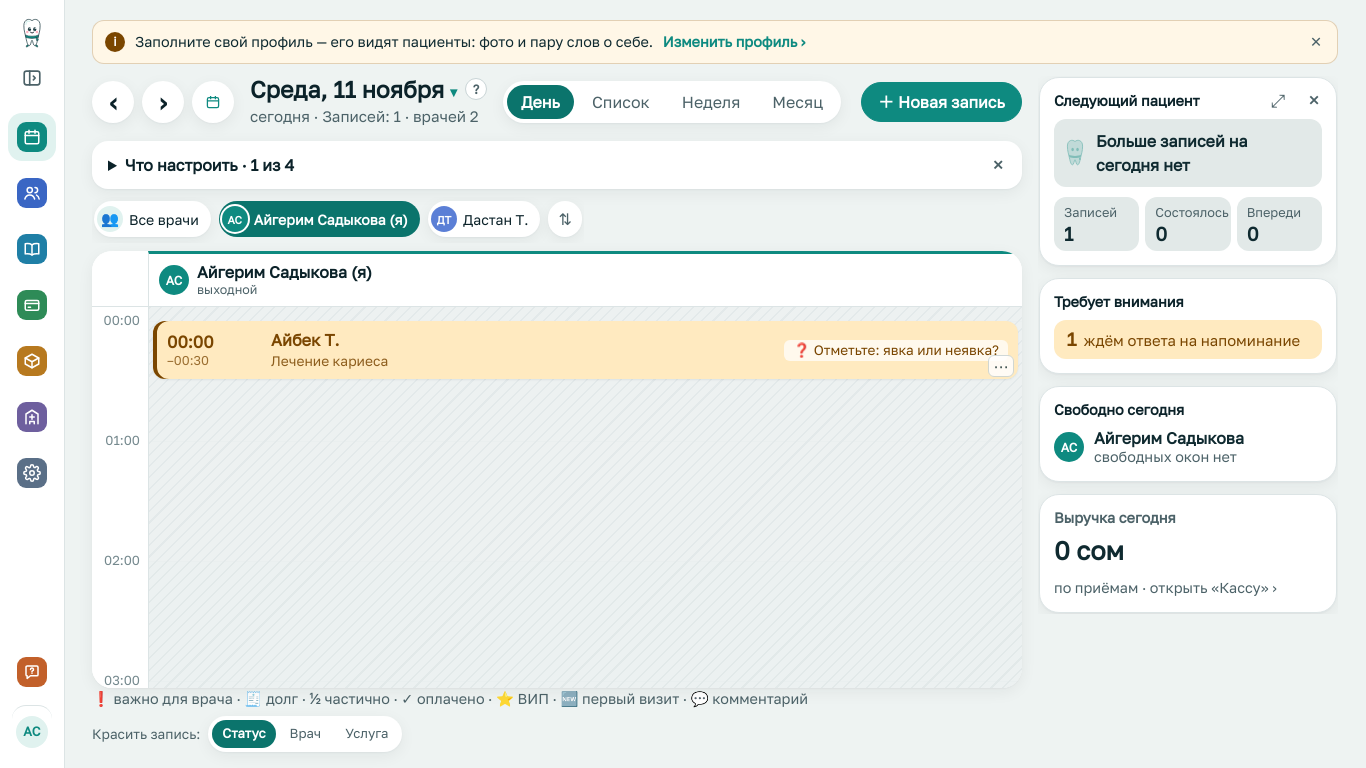
Test case: услуги этапа в приёме нет — сервер добавил строку: «Добавлено в услуги приёма: Коронка (14, 15) × 2»
The image size is (1366, 768).
Click the button "Айбек Т." at [190, 342], box [153,322,1018,380]
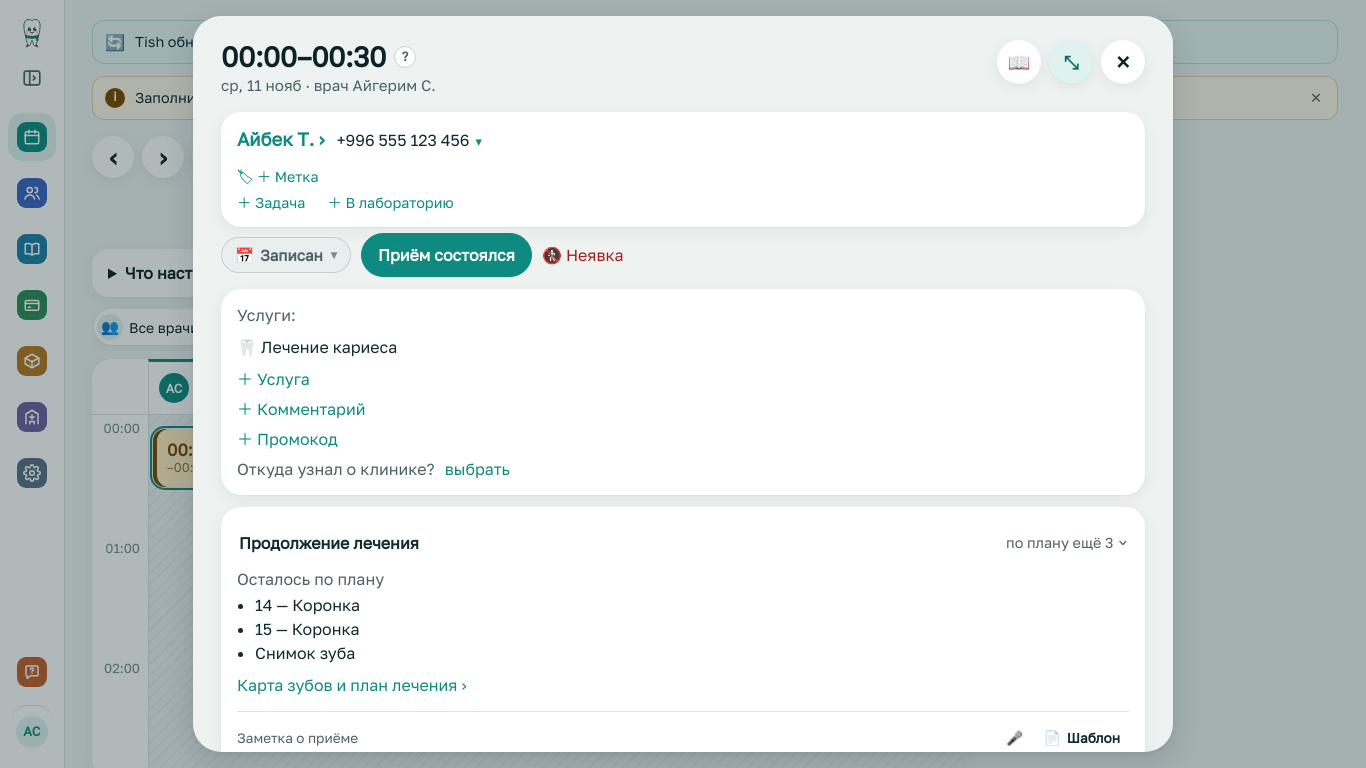
Click the button "Приём состоялся" at [446, 255], box [361,233,532,277]
(page scrolled)
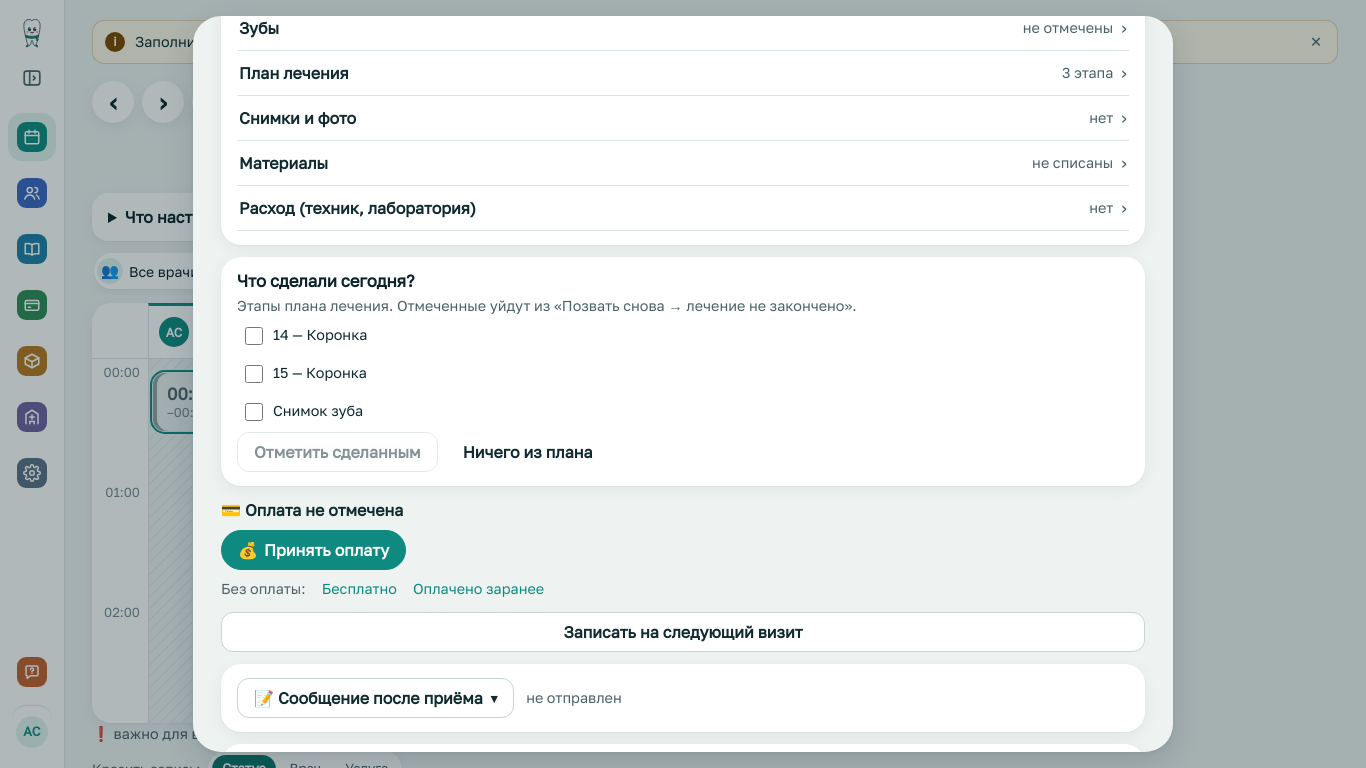
Click the checkbox labelled "14 — Коронка" at [254, 336], box [245,328,263,346]
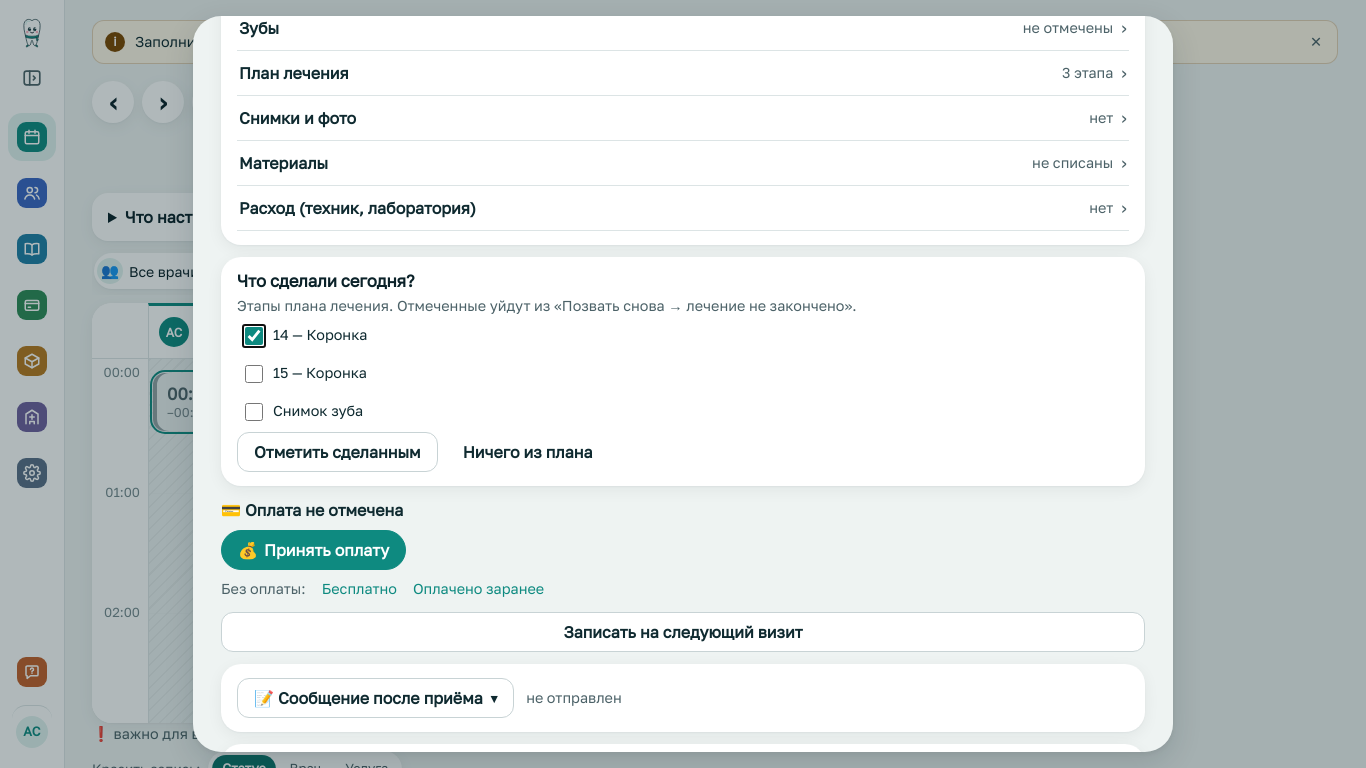
Click the checkbox labelled "15 — Коронка" at [254, 374], box [245,366,263,384]
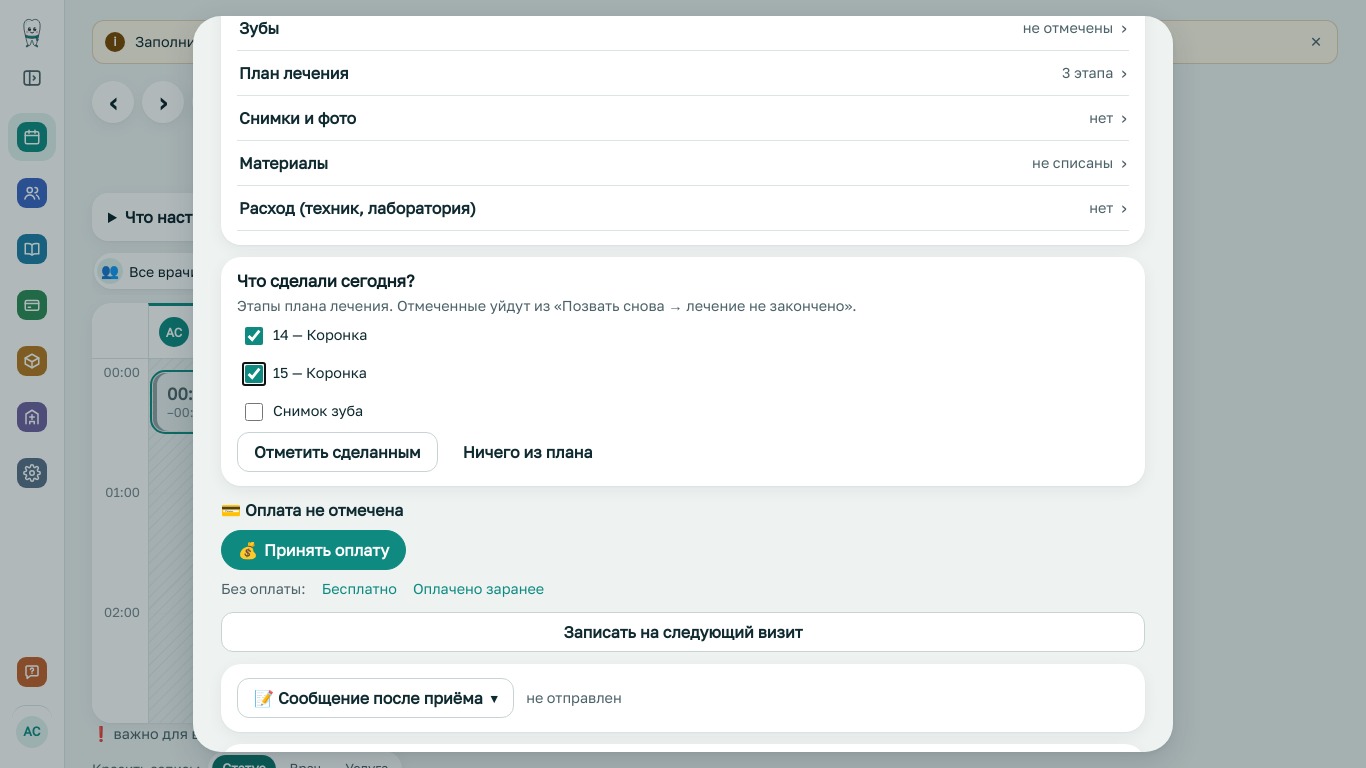
Click the checkbox labelled "Снимок зуба" at [254, 412], box [245,404,263,422]
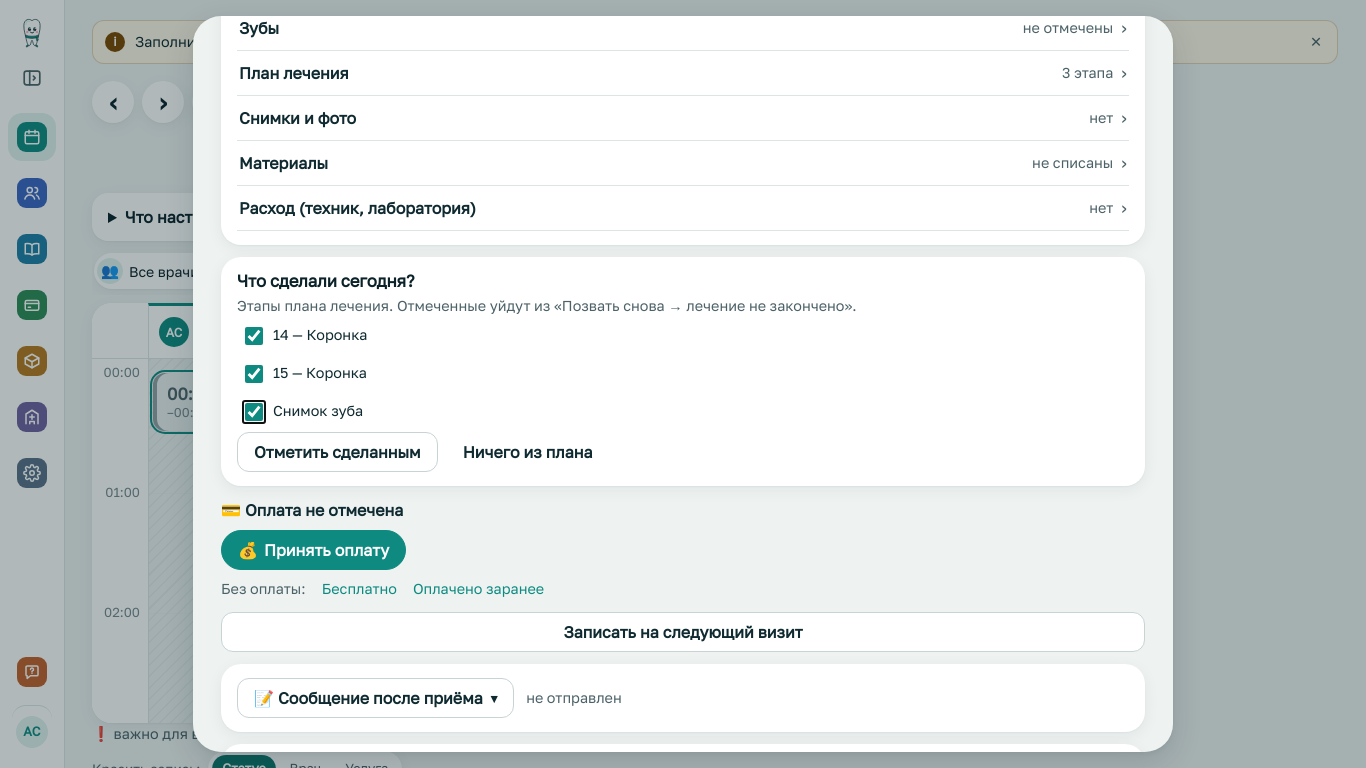
Click the button "Отметить сделанным" at [337, 452], box [237,432,438,472]
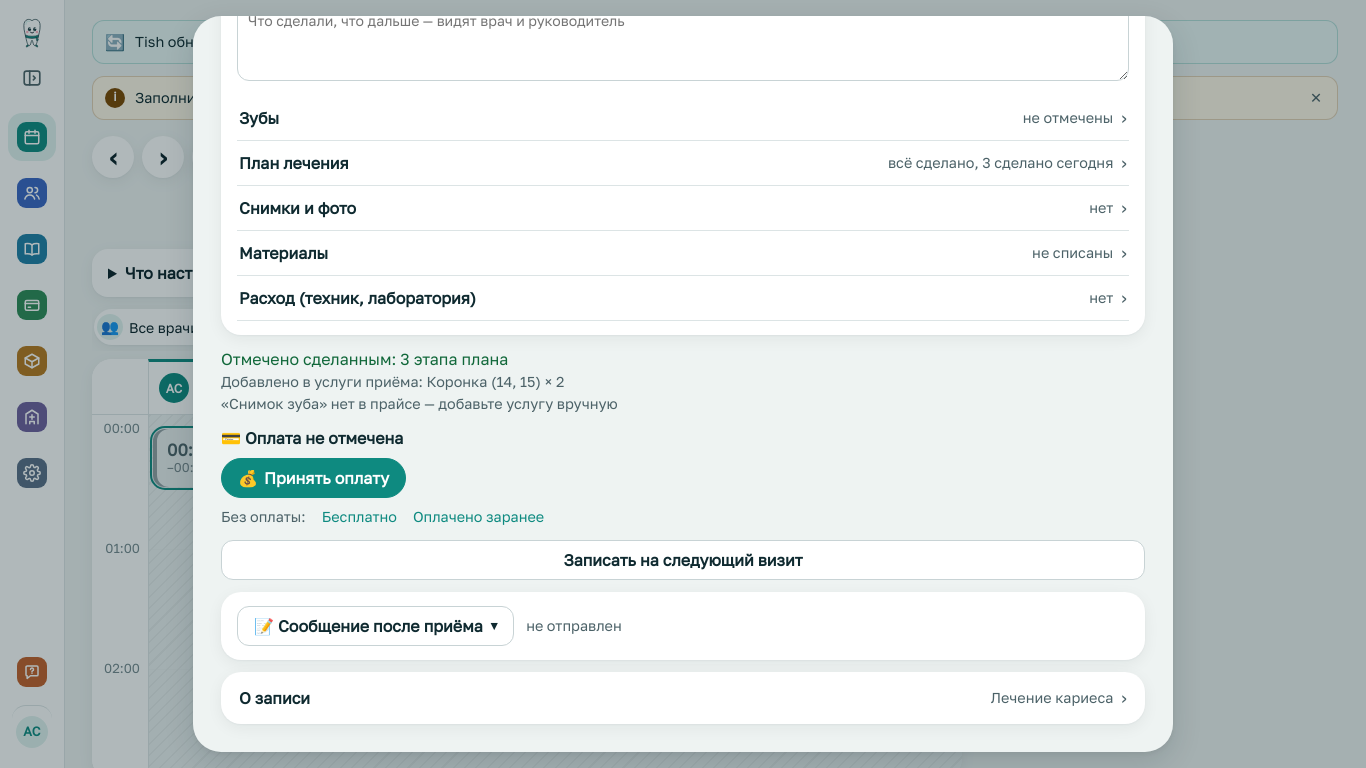
Check: the text "Отмечено сделанным: 3 этапа плана" is shown, box [221,349,508,369]
